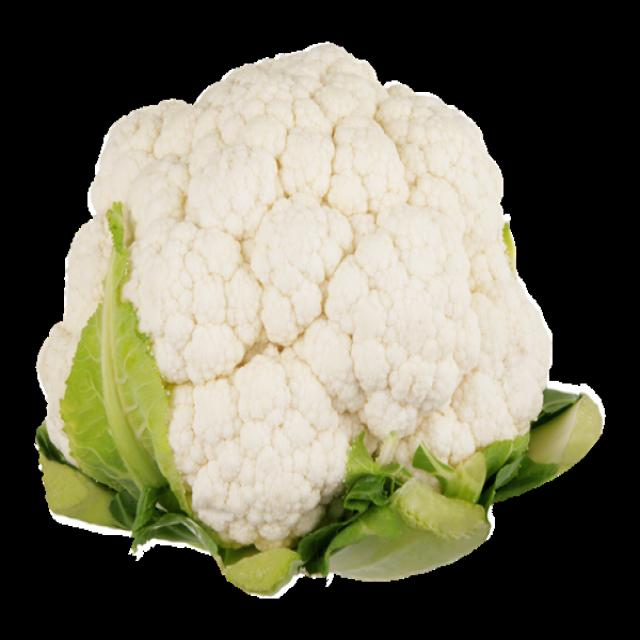Cauliflower head: (46, 40, 640, 604)
